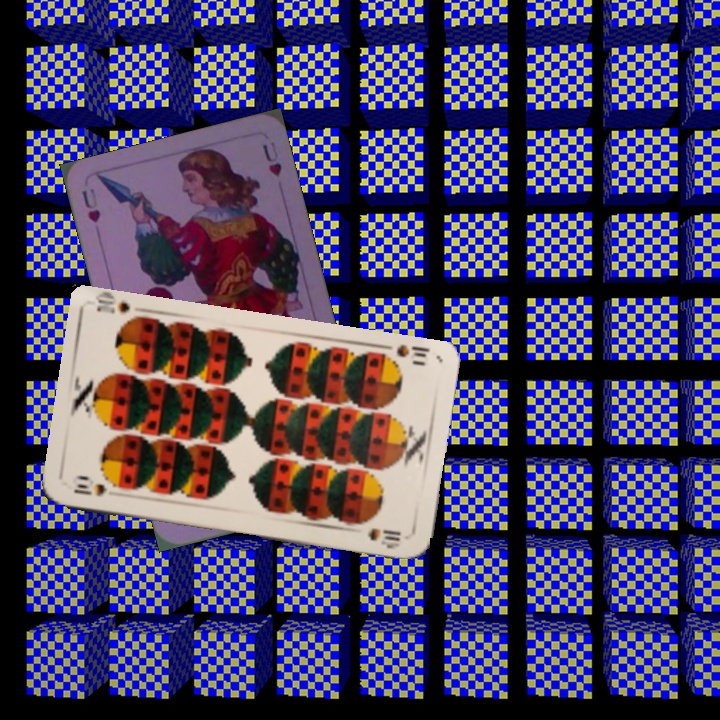HU: (78, 184, 103, 226)
S10: (392, 340, 432, 360), (69, 480, 110, 499)
